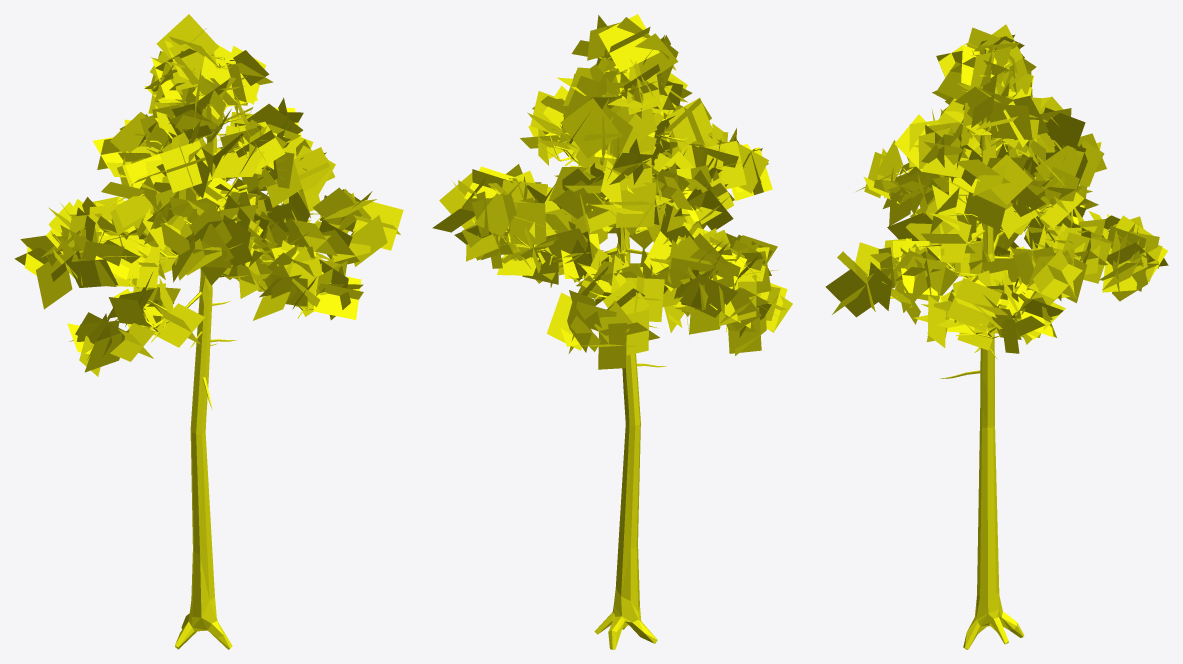
Rendered from tree_pine.glb.
The picture shows the model from 3 angles, left to right: view 1: azimuth 30°, elevation 25°; view 2: azimuth 150°, elevation 25°; view 3: azimuth 270°, elevation 25°; orthographic projection.
Visible parts, largest first — view 1: Pine_LOD0, SM_Pine_LOD0; view 2: Pine_LOD0, SM_Pine_LOD0; view 3: Pine_LOD0, SM_Pine_LOD0.
Part boxes in pixels (box(x1,y1,x2,y2)): Pine_LOD0: box(14, 14, 403, 376); SM_Pine_LOD0: box(47, 54, 358, 649); Pine_LOD0: box(432, 14, 792, 369); SM_Pine_LOD0: box(472, 57, 727, 649); Pine_LOD0: box(825, 24, 1168, 353); SM_Pine_LOD0: box(890, 48, 1106, 649).
Bounding box in the file's own units: 8.74 × 15.15 × 7.57.
